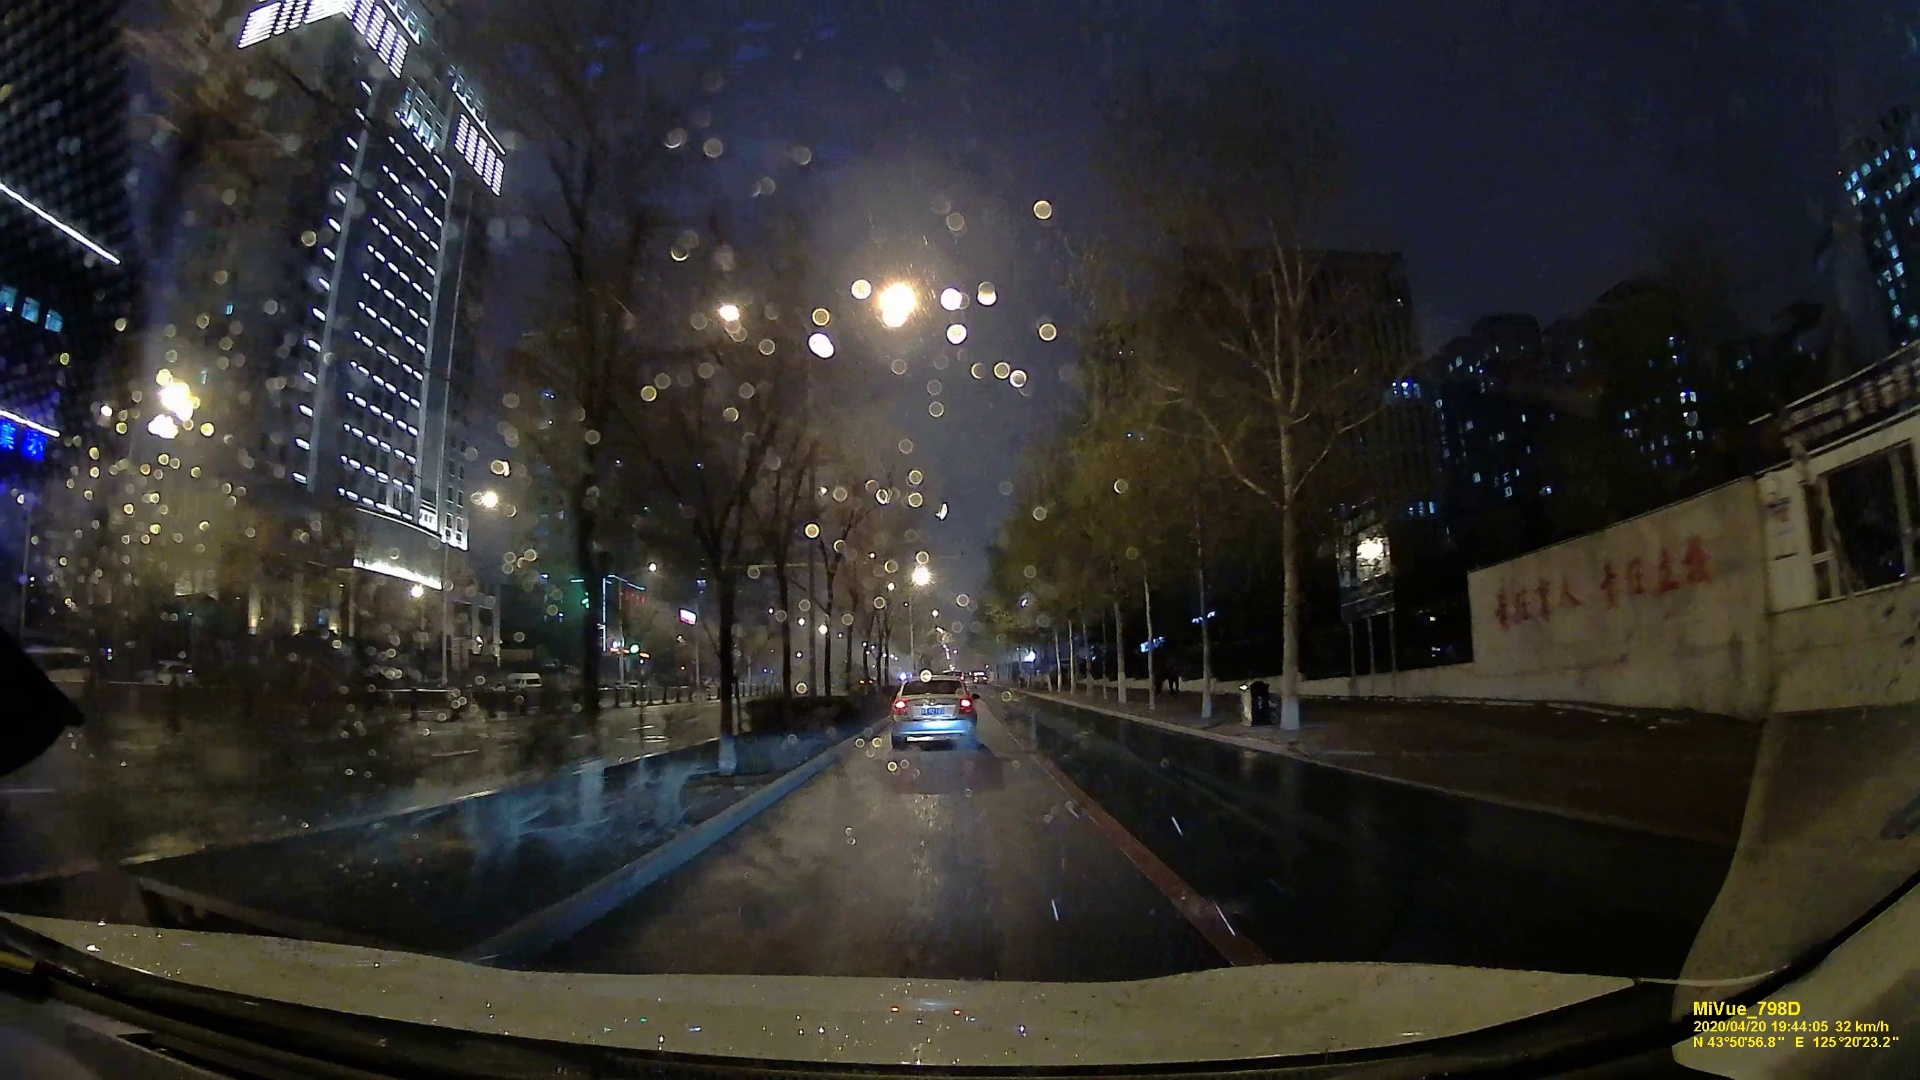vehicle: (890, 675, 977, 752)
